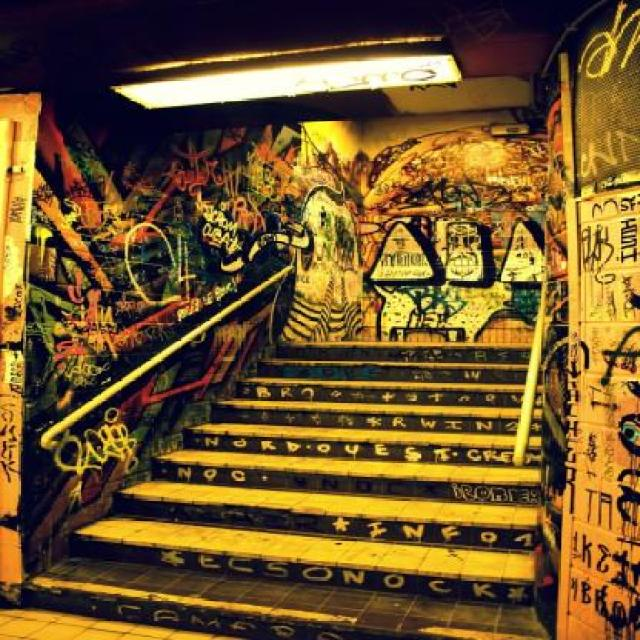stair: (18, 338, 557, 640)
